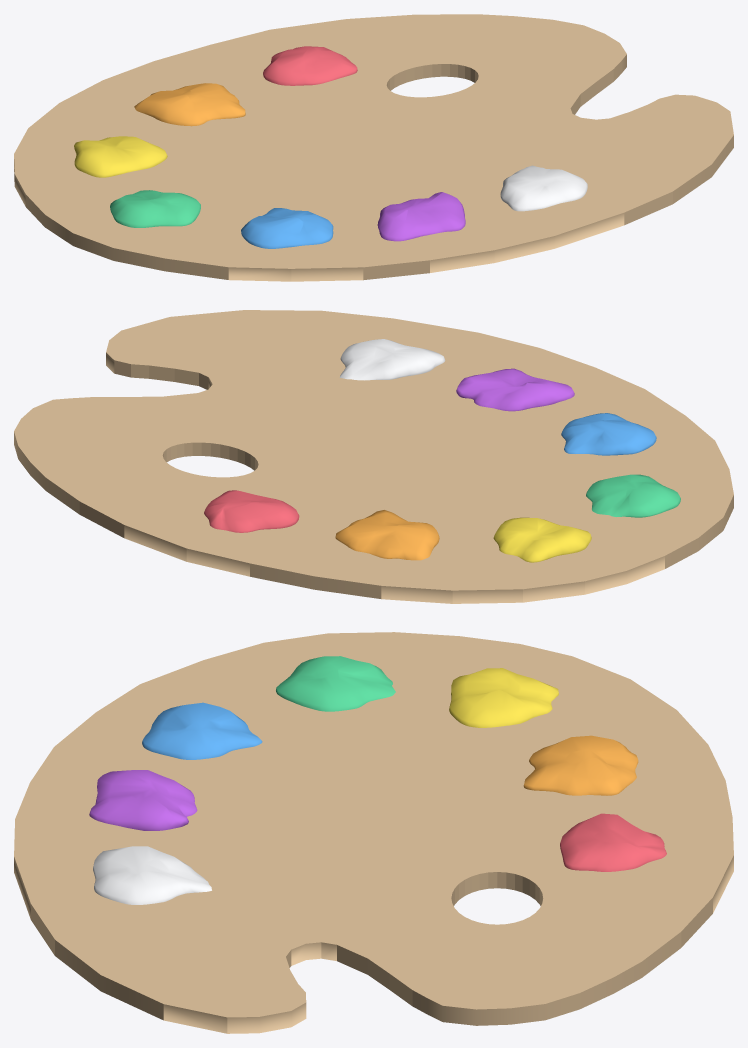
File: palette.glb
The picture shows the model from 3 angles, top to bottom: view 1: azimuth 30°, elevation 25°; view 2: azimuth 150°, elevation 25°; view 3: azimuth 270°, elevation 25°; orthographic projection. The views are drawn at different scales.
Parts seen in each view (by area): view 1: Base, Color2, Color6, Color3, Color7, Color5, Color1, Color4; view 2: Base, Color2, Color6, Color7, Color3, Color4, Color5, Color1; view 3: Base, Color2, Color6, Color7, Color3, Color5, Color4, Color1.
Boxes of the visible parts, x1,y1,x2,y2 form: Base: (14, 14, 733, 281); Color2: (134, 83, 245, 126); Color6: (377, 192, 465, 241); Color3: (74, 136, 167, 177); Color7: (500, 165, 587, 211); Color5: (241, 208, 333, 248); Color1: (263, 46, 357, 85); Color4: (110, 190, 200, 227); Base: (14, 310, 733, 603); Color2: (335, 510, 439, 560); Color6: (456, 368, 574, 411); Color7: (339, 339, 445, 380); Color3: (493, 517, 591, 562); Color4: (586, 474, 680, 517); Color5: (561, 413, 656, 455); Color1: (204, 490, 299, 532); Base: (14, 632, 733, 1033); Color2: (523, 735, 638, 795); Color6: (89, 770, 197, 830); Color7: (93, 846, 211, 904); Color3: (449, 668, 558, 727); Color5: (142, 702, 262, 759); Color4: (276, 656, 395, 711); Color1: (560, 813, 666, 871).
Bounding box in the file's own units: 15.14 × 0.5994 × 11.96.
